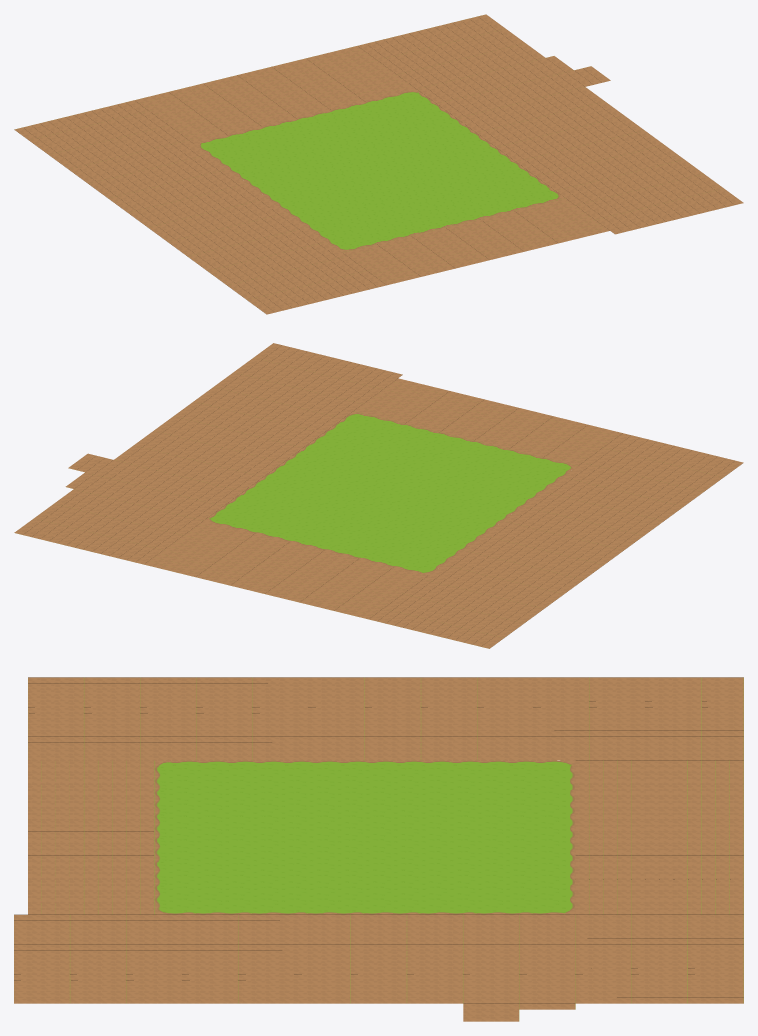
The model's file is ground.gltf.
3 renders of one model, top to bottom at view 1: azimuth 30°, elevation 25°; view 2: azimuth 150°, elevation 25°; view 3: azimuth 270°, elevation 25°, orthographic. The views are drawn at different scales.
Bounding box in the file's own units: 116 × 0.0104 × 104.
Materials: 1 (1 with a texture image).
